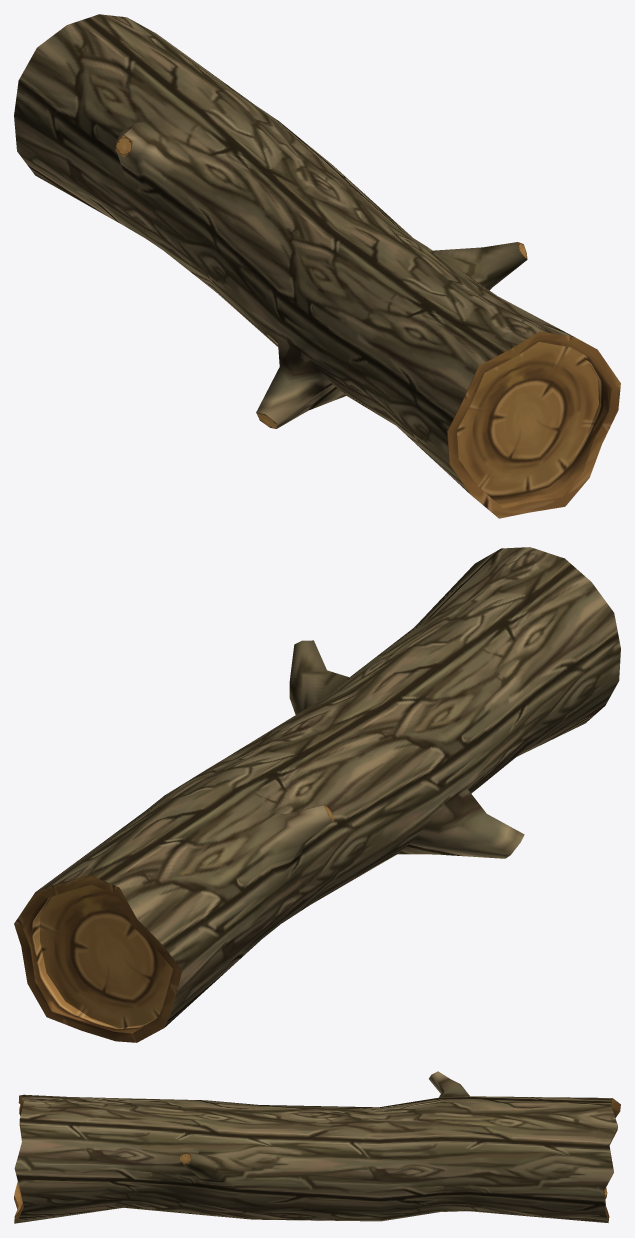
File: Log02.fbx
3 views of the same model, one above another, from view 1: azimuth 30°, elevation 25°; view 2: azimuth 150°, elevation 25°; view 3: azimuth 270°, elevation 25° (orthographic). The views are drawn at different scales.
Visible parts, largest first — view 1: Log02_LOD0; view 2: Log02_LOD0; view 3: Log02_LOD0.
Boxes of the visible parts, x1,y1,x2,y2 form: Log02_LOD0: (14,14,620,518); Log02_LOD0: (14,547,620,1042); Log02_LOD0: (14,1071,620,1223).
Size of what is drawn, in the model's own units: 63.92 by 43.49 by 203.
